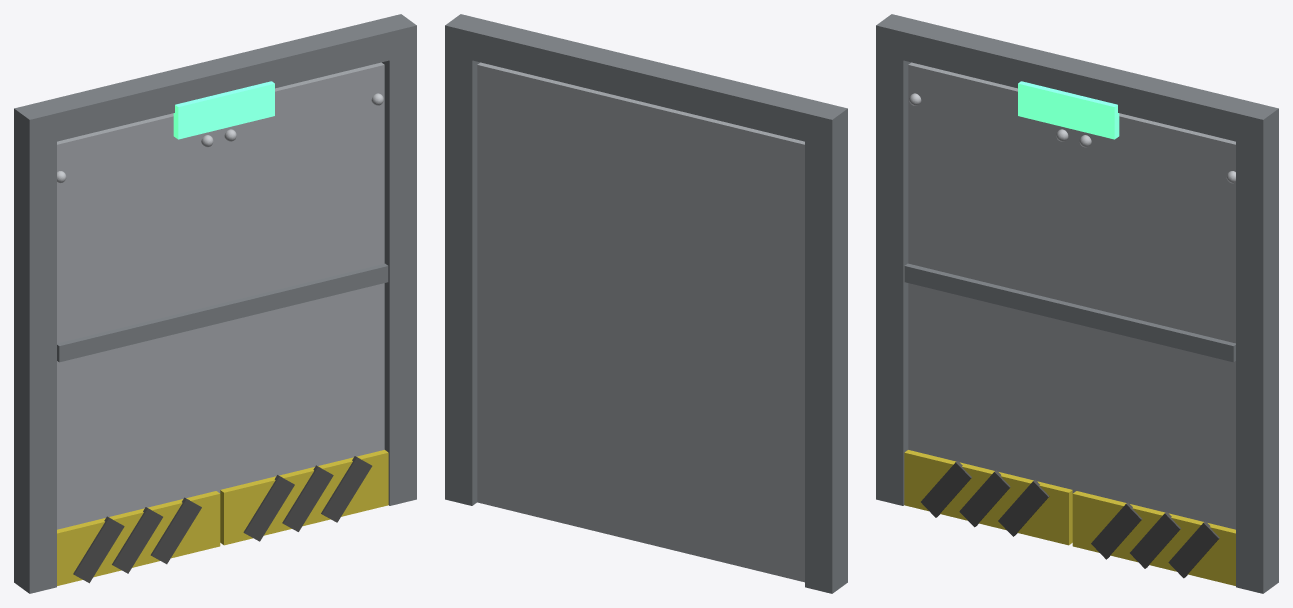
Rendered from door_industrial.glb.
3 renders of one model, left to right at view 1: azimuth 30°, elevation 25°; view 2: azimuth 150°, elevation 25°; view 3: azimuth 330°, elevation 25°, orthographic.
Visible parts, largest first — view 1: ind_leaf.001, ind_leaf, ind_frame.001, ind_frame, ind_frame.002, ind_pushbar, ind_hazard.001, ind_hazard, ind_exit, ind_hazstrip, ind_hazstrip.005, ind_hazstrip.001 (+3 smaller); view 2: ind_leaf.001, ind_leaf, ind_frame.001, ind_frame, ind_frame.002; view 3: ind_leaf, ind_leaf.001, ind_frame.002, ind_frame, ind_frame.001, ind_pushbar, ind_hazard, ind_hazard.001, ind_exit, ind_hazstrip.004, ind_hazstrip, ind_hazstrip.003 (+3 smaller).
Boxes of the visible parts, x1,y1,x2,y2 form: ind_leaf.001: (218, 62, 384, 493); ind_leaf: (57, 113, 218, 529); ind_frame.001: (14, 137, 56, 593); ind_frame: (14, 14, 416, 147); ind_frame.002: (382, 54, 416, 505); ind_pushbar: (57, 263, 388, 362); ind_hazard.001: (220, 450, 388, 545); ind_hazard: (57, 491, 220, 585); ind_exit: (173, 81, 274, 139); ind_hazstrip: (73, 516, 124, 583); ind_hazstrip.005: (321, 456, 372, 522); ind_hazstrip.001: (112, 507, 162, 573); ind_leaf.001: (477, 62, 646, 542); ind_leaf: (643, 103, 804, 582); ind_frame.001: (805, 137, 847, 593); ind_frame: (445, 14, 847, 147); ind_frame.002: (445, 54, 479, 505); ind_leaf: (908, 62, 1074, 493); ind_leaf.001: (1074, 113, 1235, 529); ind_frame.002: (1236, 137, 1278, 593); ind_frame: (876, 14, 1278, 147); ind_frame.001: (876, 54, 910, 505); ind_pushbar: (904, 263, 1235, 362); ind_hazard: (904, 450, 1072, 545); ind_hazard.001: (1072, 491, 1235, 585); ind_exit: (1018, 81, 1119, 139); ind_hazstrip.004: (1130, 512, 1180, 568); ind_hazstrip: (921, 461, 971, 517); ind_hazstrip.003: (1091, 502, 1141, 559).
Bounding box in the file's own units: 2 × 2.36 × 0.17.
